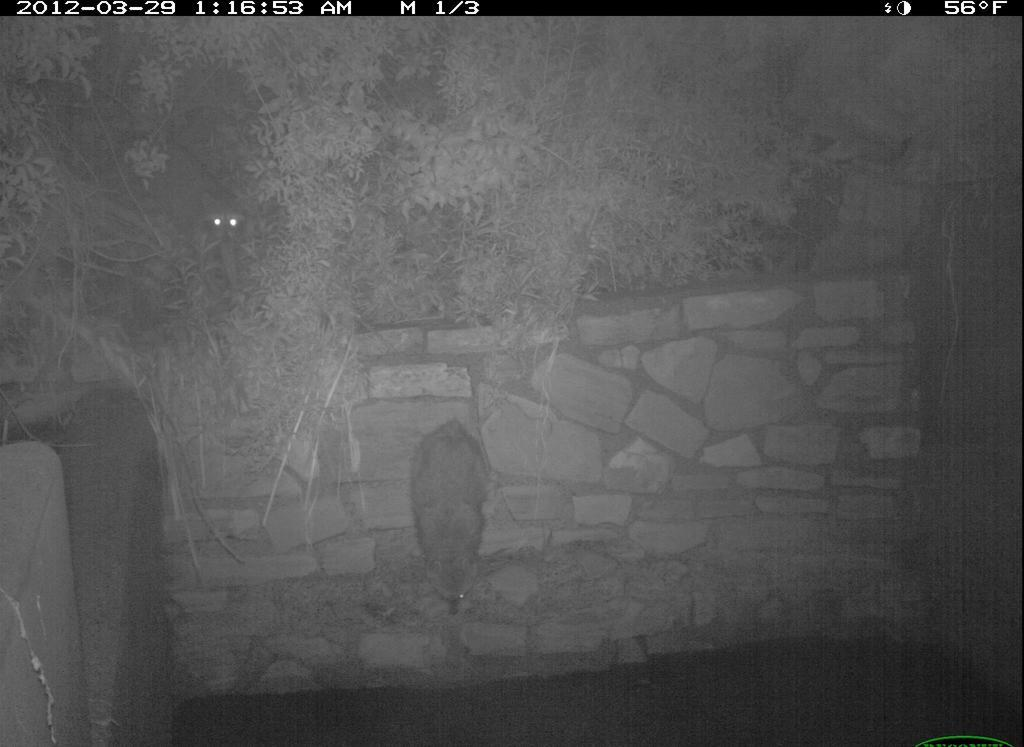raccoon: (140, 136, 259, 304), (404, 414, 498, 611)
